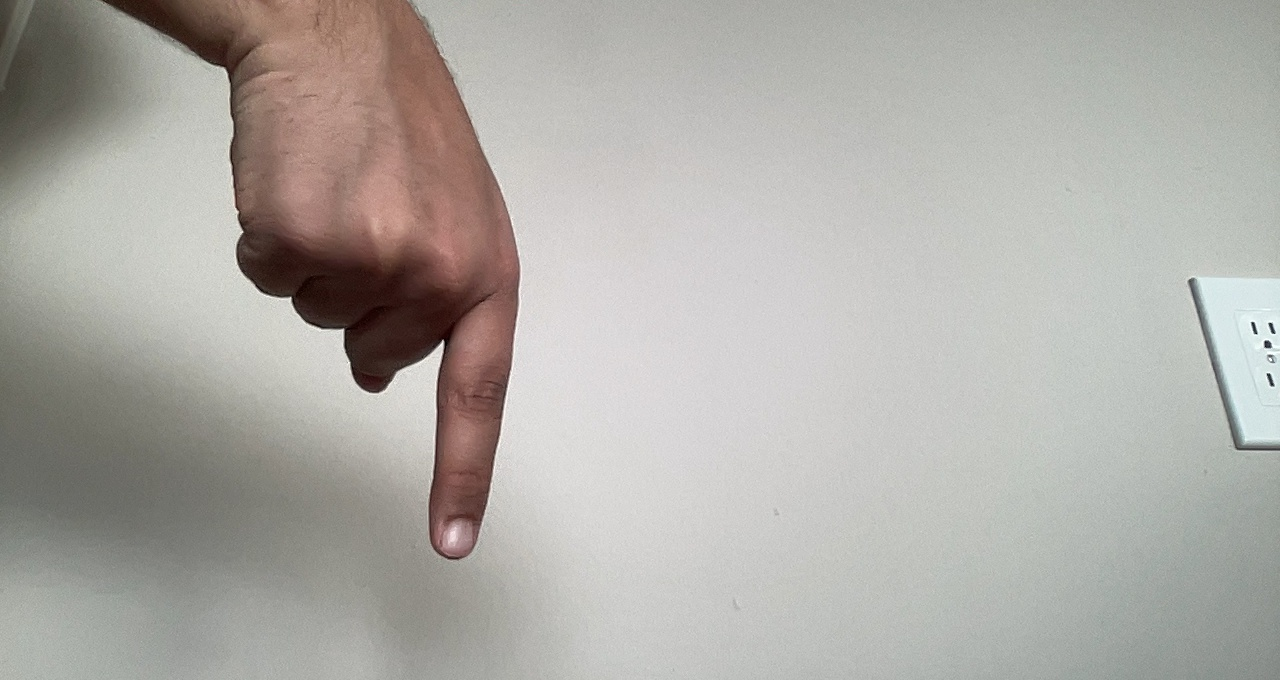fingerdown: (200, 26, 526, 558)
